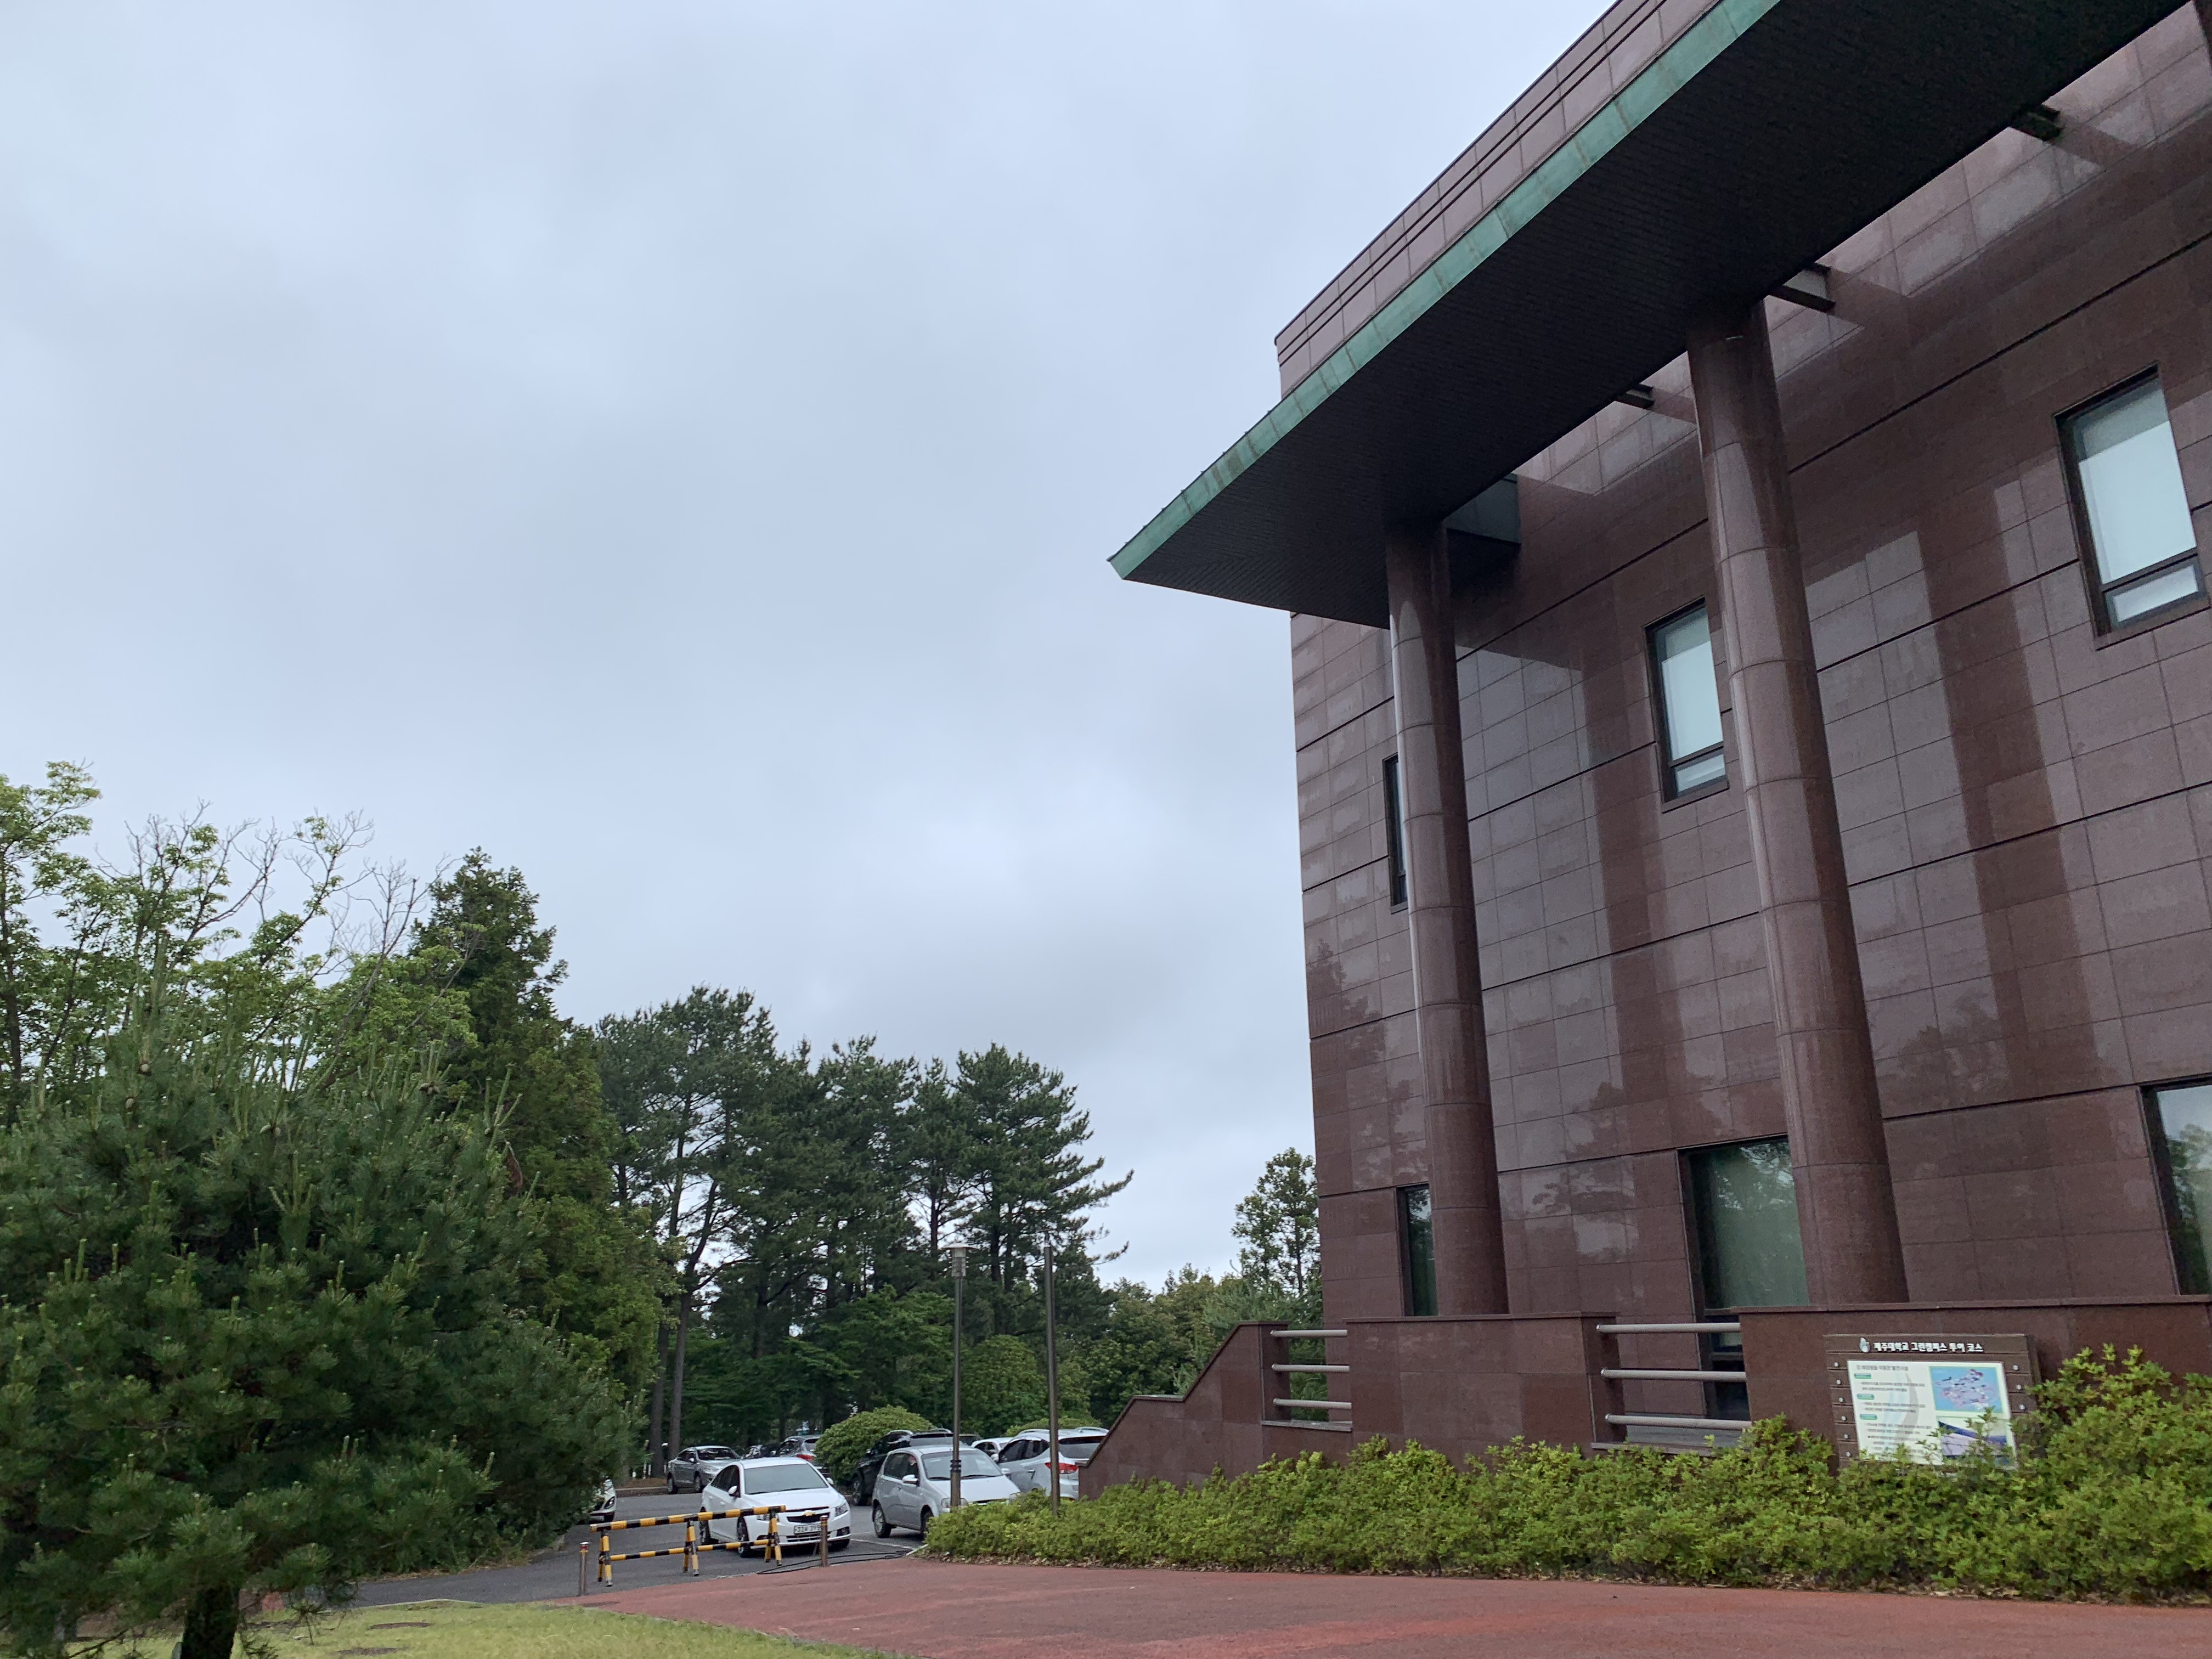Museum: (1097, 45, 2182, 1483)
